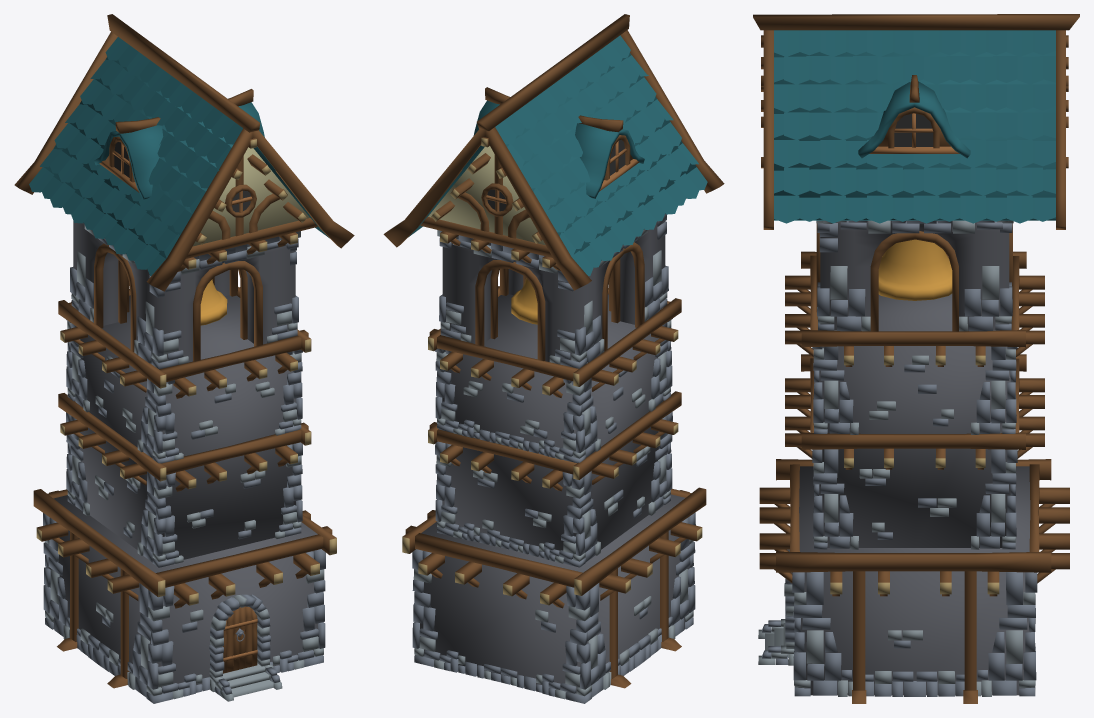
Rendered from bell_tower.glb.
3 renders of one model, left to right at view 1: azimuth 30°, elevation 25°; view 2: azimuth 150°, elevation 25°; view 3: azimuth 270°, elevation 25°, orthographic. The views are drawn at different scales.
Parts seen in each view (by area): view 1: Bell_Tower; view 2: Bell_Tower; view 3: Bell_Tower.
Boxes of the visible parts, x1,y1,x2,y2 form: Bell_Tower: (14,14,354,703); Bell_Tower: (383,14,724,703); Bell_Tower: (753,14,1079,703).
Bounding box in the file's own units: 6 × 15 × 7.
